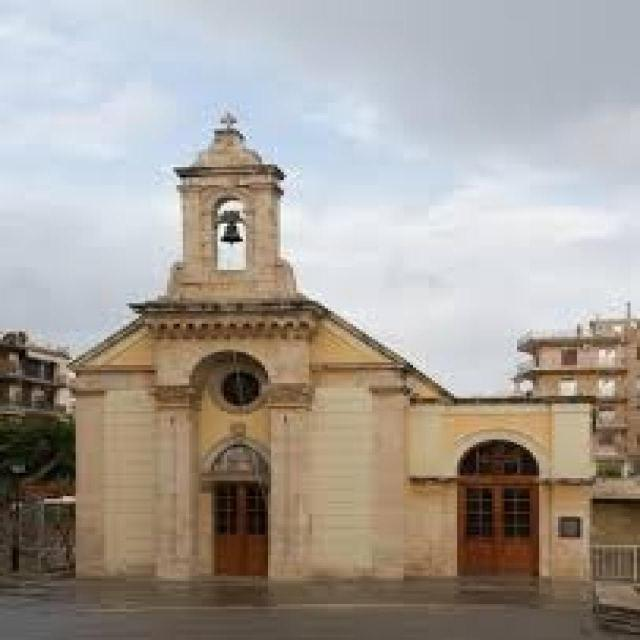Agios Minas: (68, 100, 597, 594)
